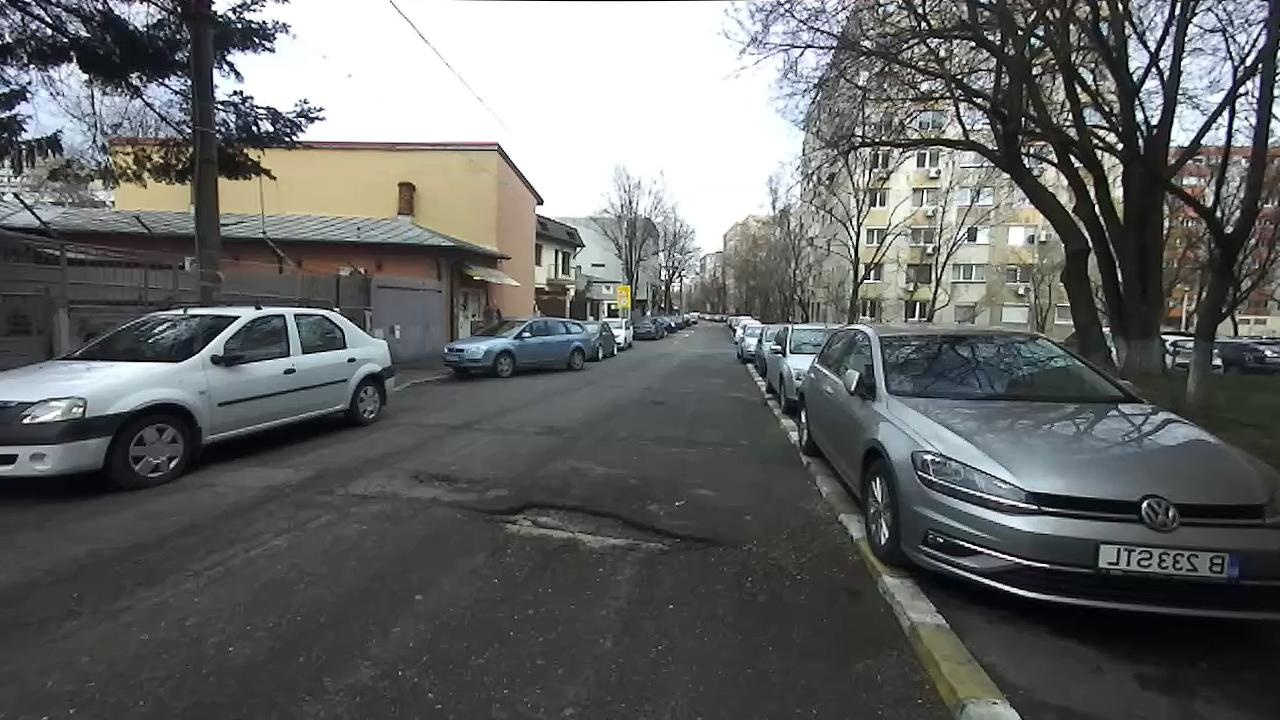pothole: (460, 496, 720, 555), (401, 464, 486, 487)
